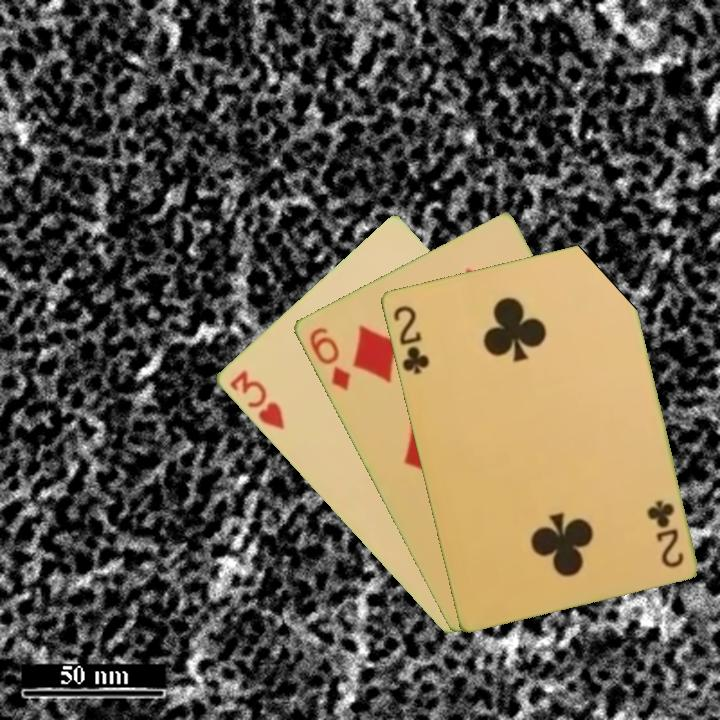2c: (389, 301, 432, 377), (645, 496, 686, 571)
3h: (225, 366, 287, 433)
6d: (305, 323, 353, 394)
